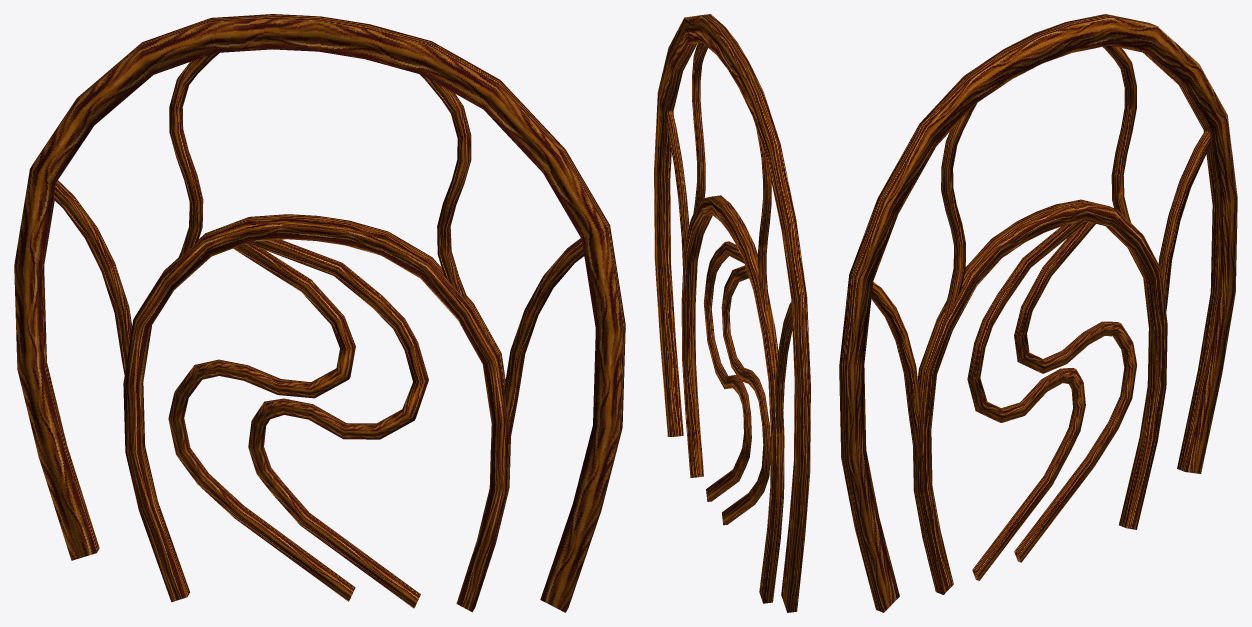
The model's file is EKH_BARRELROOM_PS_JA1_LOFT18.fbx.
3 renders of one model, left to right at view 1: azimuth 30°, elevation 25°; view 2: azimuth 150°, elevation 25°; view 3: azimuth 270°, elevation 25°, orthographic. The views are drawn at different scales.
Visible parts, largest first — view 1: EKH_BARRELROOM_PS_JA1_LOFT18; view 2: EKH_BARRELROOM_PS_JA1_LOFT18; view 3: EKH_BARRELROOM_PS_JA1_LOFT18.
Boxes of the visible parts, box(x1,y1,x2,y2) form: EKH_BARRELROOM_PS_JA1_LOFT18: box(14, 14, 625, 612); EKH_BARRELROOM_PS_JA1_LOFT18: box(654, 14, 810, 612); EKH_BARRELROOM_PS_JA1_LOFT18: box(839, 14, 1237, 612).
Size of the model in its own units: 21999 by 31519 by 21282.
1 material, 1 textured.
